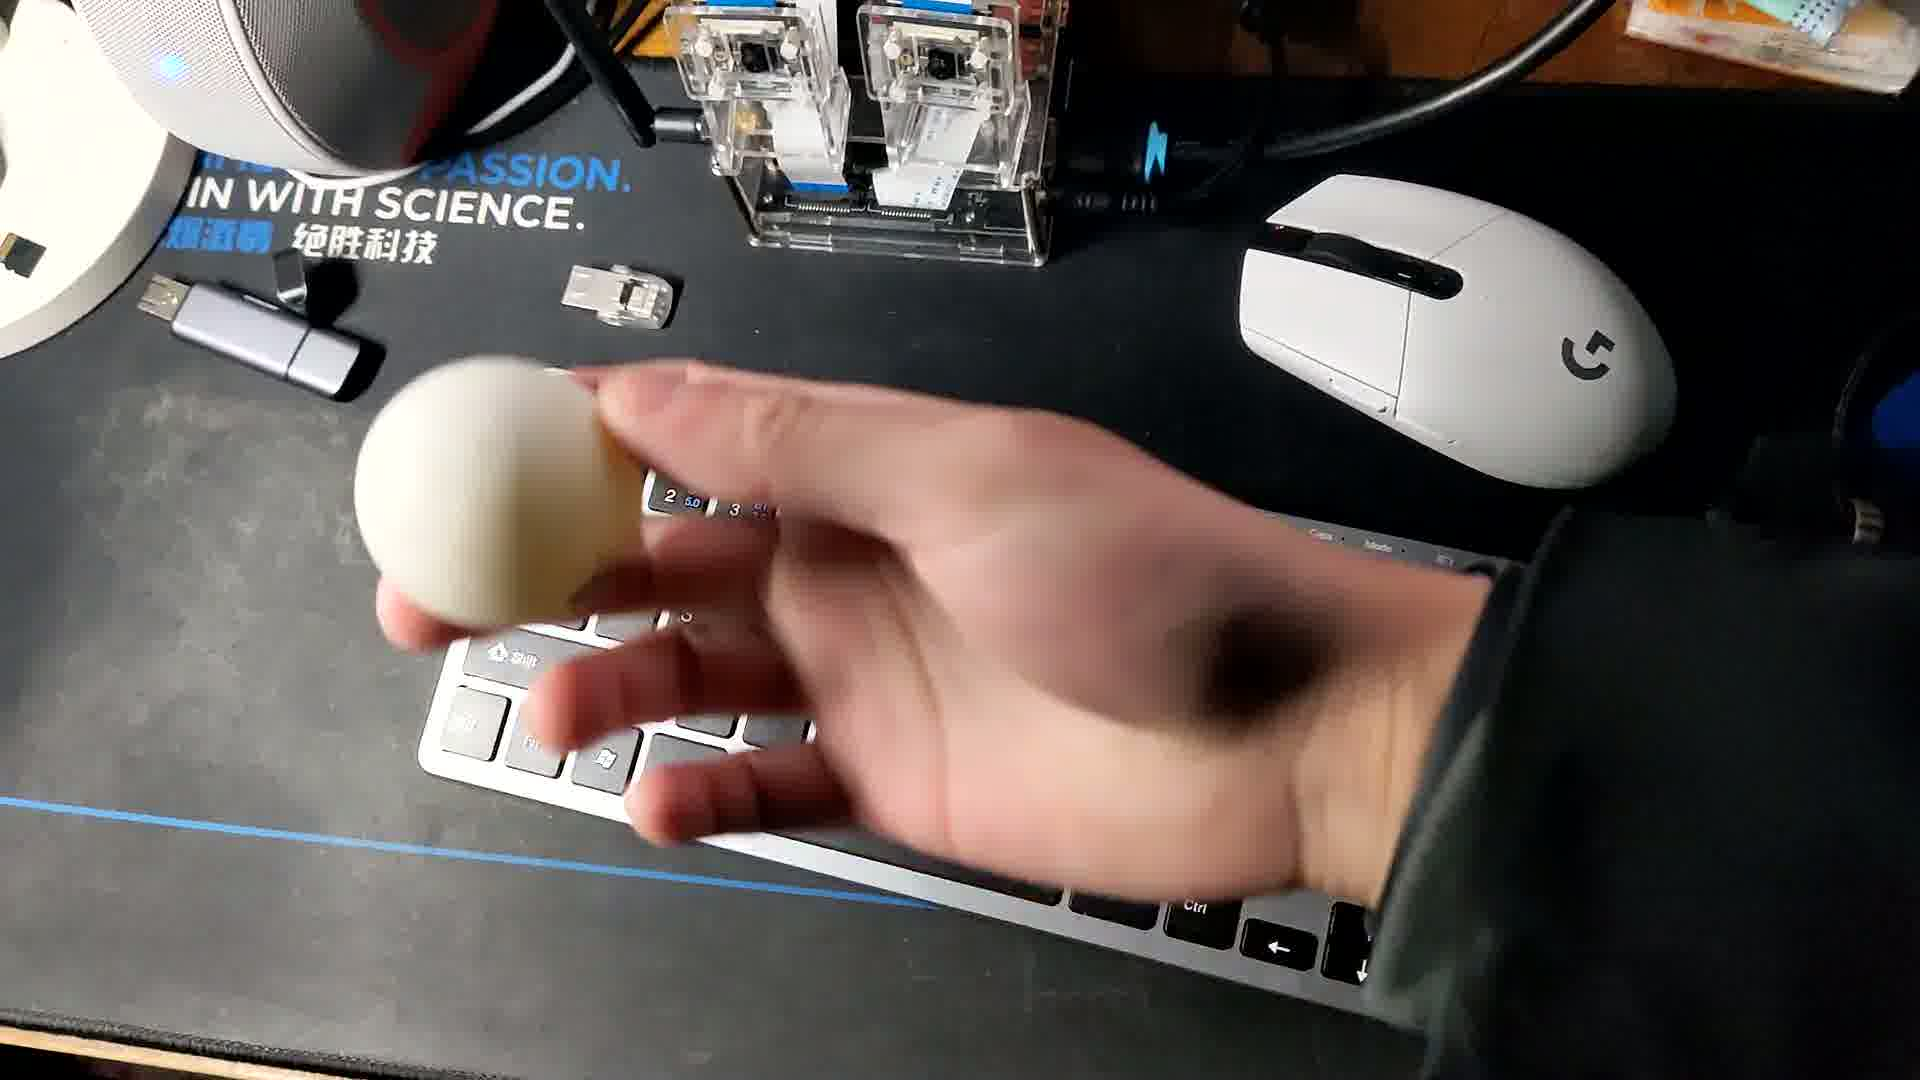Ball: (355, 349, 633, 622)
